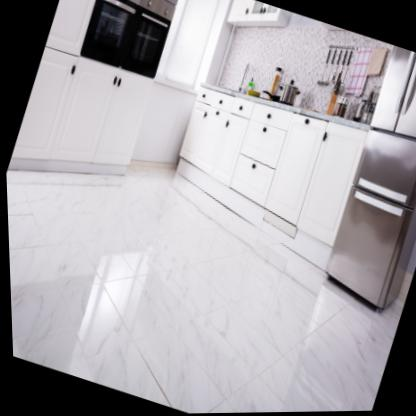Cabinet: (175, 87, 369, 272), (6, 47, 152, 176), (227, 0, 291, 28)
Ceramic floor: (5, 170, 391, 414)
